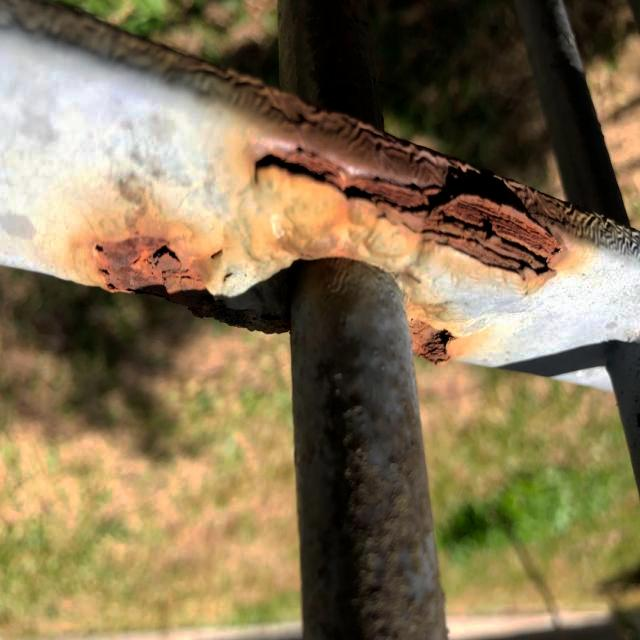Corrosion: (238, 94, 591, 325), (85, 216, 292, 335), (407, 316, 459, 365)
